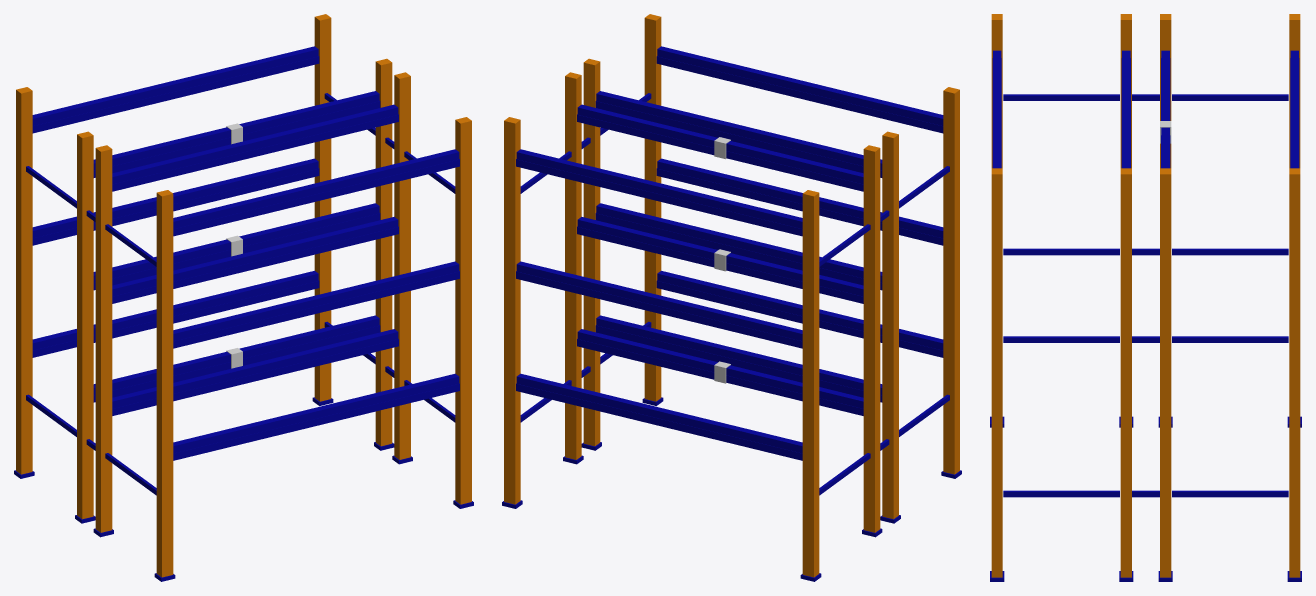
The model's file is high-duty-C27-3-pair.glb.
3 renders of one model, left to right at view 1: azimuth 30°, elevation 25°; view 2: azimuth 150°, elevation 25°; view 3: azimuth 270°, elevation 25°, orthographic. The views are drawn at different scales.
Visible parts, largest first — view 1: group2_geometry_0, group2_geometry_4, group1_geometry_0, group1_geometry_4, group2_geometry_2, group2_geometry_6, group1_geometry_2, group1_geometry_6, group1_geometry_20, group2_geometry_8, group2_geometry_12, group2_geometry_18 (+20 smaller); view 2: group1_geometry_4, group1_geometry_0, group2_geometry_0, group2_geometry_4, group1_geometry_6, group1_geometry_2, group2_geometry_6, group2_geometry_2, group1_geometry_10, group1_geometry_15, group2_geometry_16, group1_geometry_20 (+20 smaller); view 3: group1_geometry_2, group1_geometry_6, group2_geometry_2, group2_geometry_6, group2_geometry_18, group1_geometry_20, group2_geometry_16, group1_geometry_18, group1_geometry_25, group1_geometry_26, group2_geometry_22, group2_geometry_23 (+8 smaller).
Part boxes in pixels (<box>): group2_geometry_0: <box>156,190,173,577</box>; group2_geometry_4: <box>95,145,112,532</box>; group1_geometry_0: <box>77,131,93,519</box>; group1_geometry_4: <box>16,87,32,474</box>; group2_geometry_2: <box>455,117,471,504</box>; group2_geometry_6: <box>394,72,410,459</box>; group1_geometry_2: <box>375,58,392,446</box>; group1_geometry_6: <box>314,14,331,401</box>; group1_geometry_20: <box>32,46,318,125</box>; group2_geometry_8: <box>173,373,459,453</box>; group2_geometry_12: <box>173,261,459,341</box>; group2_geometry_18: <box>112,104,398,184</box>; group1_geometry_4: <box>802,190,819,577</box>; group1_geometry_0: <box>863,145,880,532</box>; group2_geometry_0: <box>943,87,959,474</box>; group2_geometry_4: <box>882,131,898,519</box>; group1_geometry_6: <box>504,117,520,504</box>; group1_geometry_2: <box>565,72,581,459</box>; group2_geometry_6: <box>583,58,600,446</box>; group2_geometry_2: <box>644,14,661,401</box>; group1_geometry_10: <box>516,373,802,453</box>; group1_geometry_15: <box>516,261,802,341</box>; group2_geometry_16: <box>657,46,943,125</box>; group1_geometry_20: <box>516,149,802,228</box>; group1_geometry_2: <box>1160,168,1171,577</box>; group1_geometry_6: <box>1289,168,1300,577</box>; group2_geometry_2: <box>991,168,1002,577</box>; group2_geometry_6: <box>1120,168,1131,577</box>; group2_geometry_18: <box>1122,50,1130,168</box>; group1_geometry_20: <box>1290,50,1298,168</box>; group2_geometry_16: <box>993,50,1001,168</box>; group1_geometry_18: <box>1161,50,1169,168</box>; group1_geometry_25: <box>1172,490,1288,497</box>; group1_geometry_26: <box>1172,248,1288,255</box>; group2_geometry_22: <box>1003,490,1119,497</box>; group2_geometry_23: <box>1003,248,1119,255</box>.
Size of the model in its own units: 2720 by 3200 by 2220.
